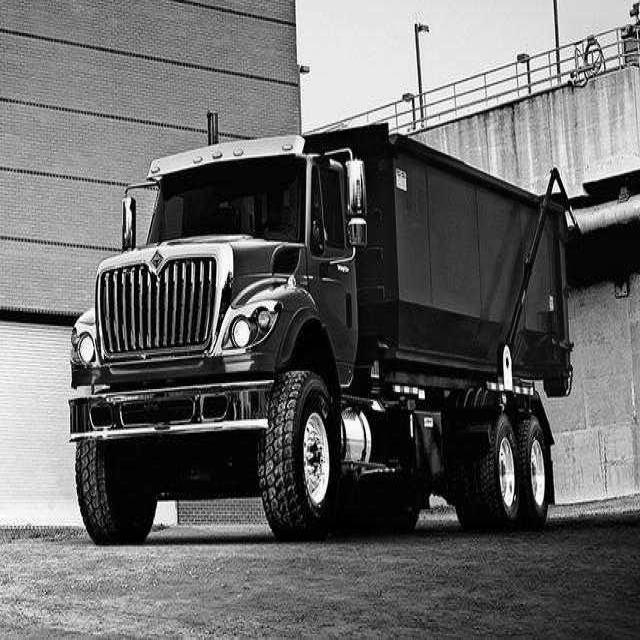Truck: (70, 126, 572, 544)
